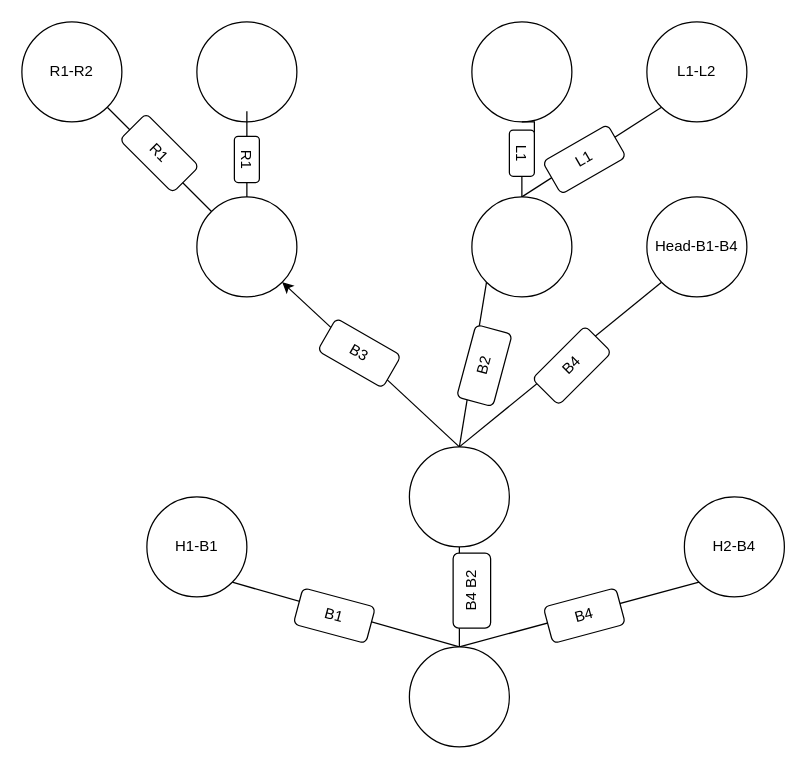
The diagram is 806 pixels wide and 769 high, and some of its shapes have lost their labels. Each missing label, with the centre of its shape:
"B1-B4-B2" belongs at pixel 458 696.
"B2-B4-B3" belongs at pixel 458 496.
"B2-L1" belongs at pixel 521 246.
"B3-R1" belongs at pixel 246 246.
"L1-L3" belongs at pixel 521 71.
"R1-R3" belongs at pixel 246 71.
